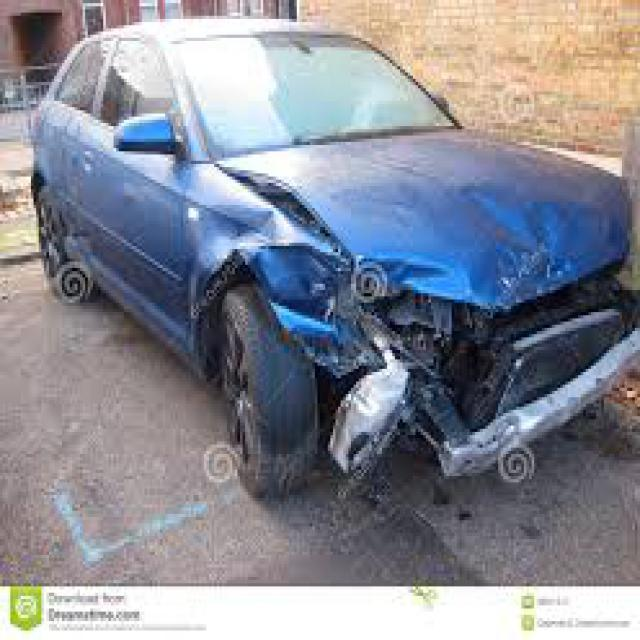bonnet-dent: (282, 114, 638, 302)
fender-dent: (173, 189, 299, 391)
